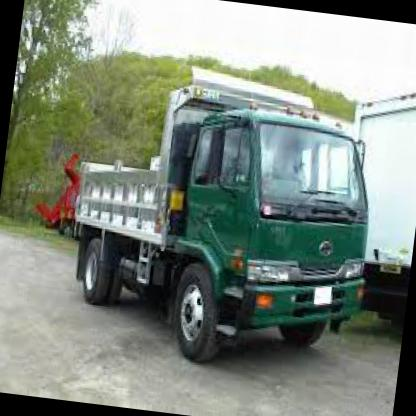truck: (159, 96, 385, 383)
